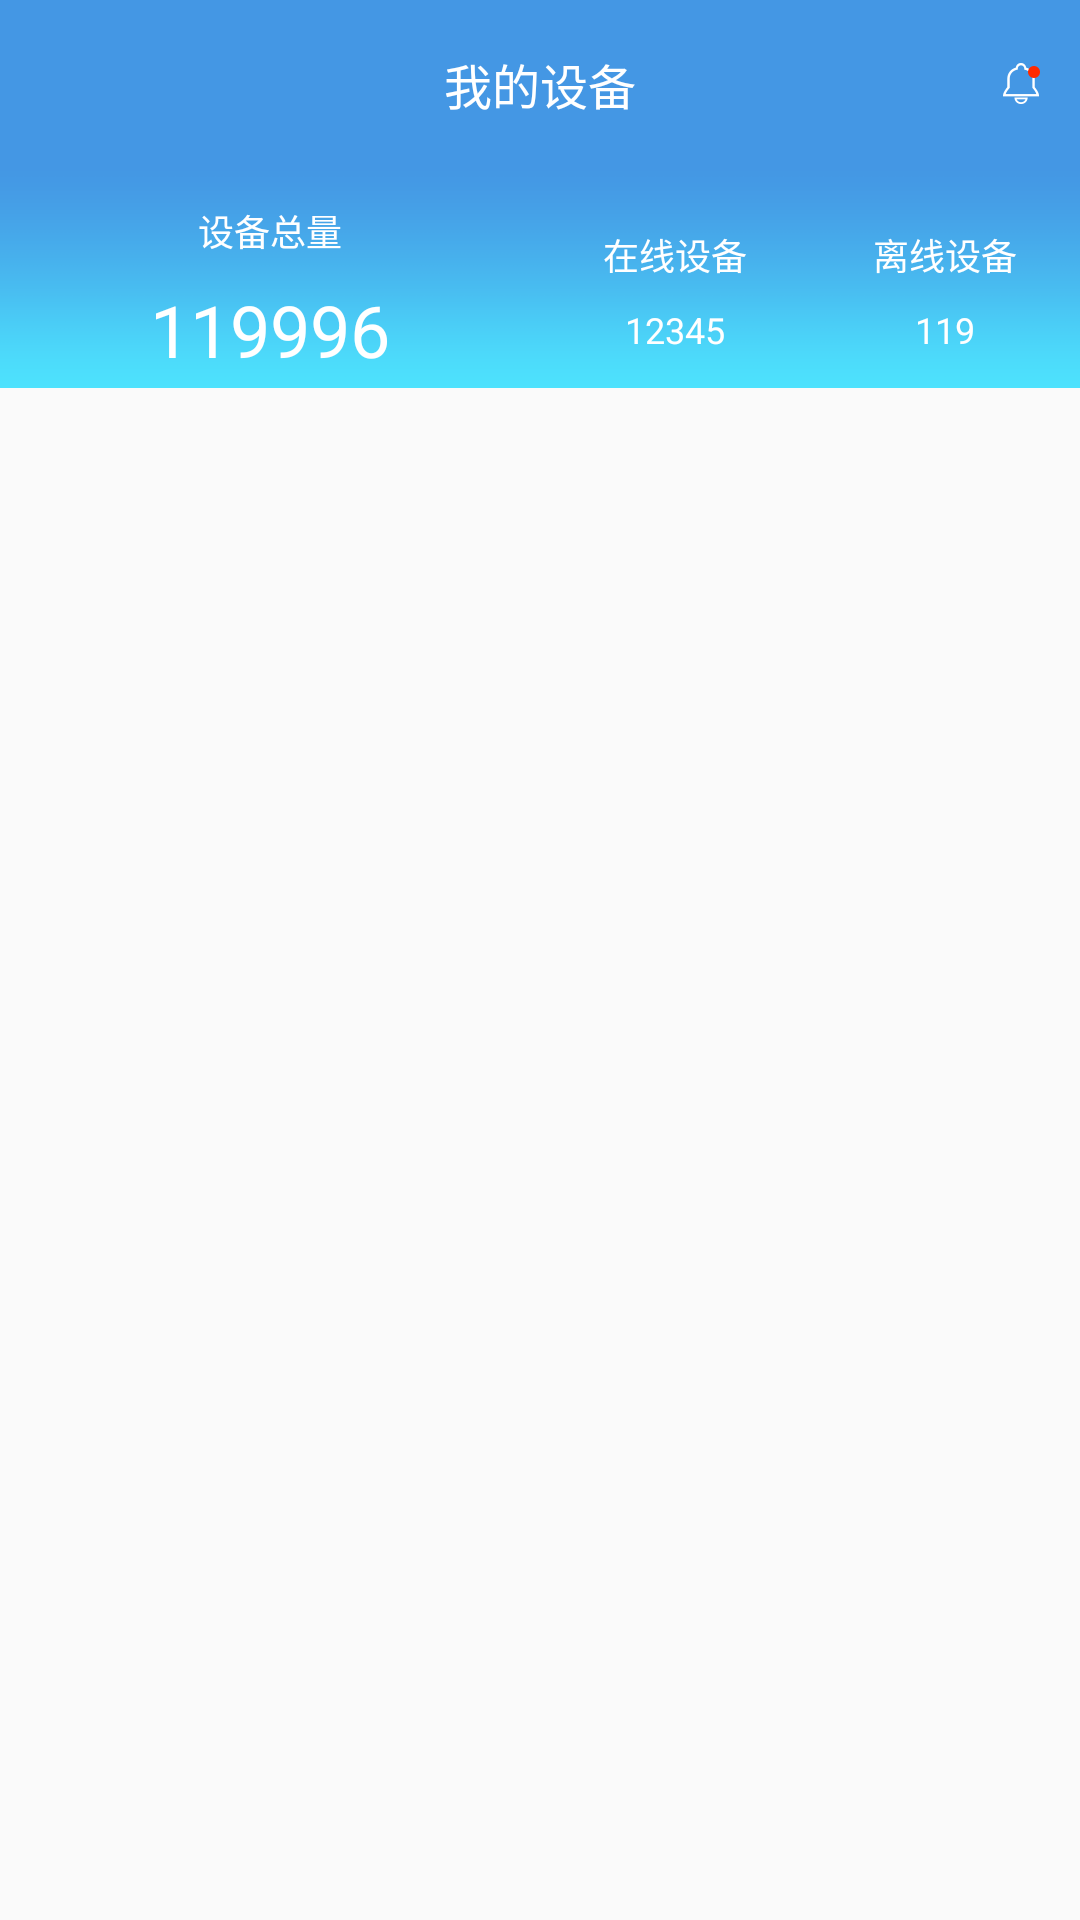

Locate icon controls on the screen. Image size 1080px x 1920px, boxes as (x1, y1, x2, y2).
mydeice notice: (1003, 63, 1040, 104)
